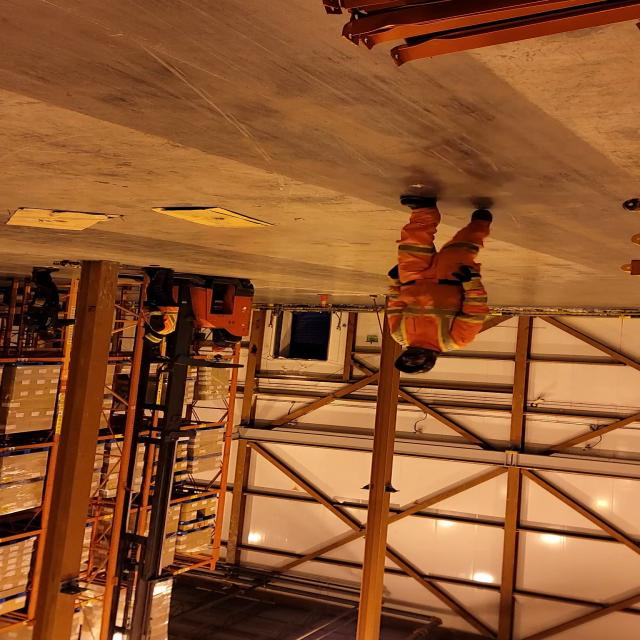forklift: (104, 264, 260, 442)
human: (382, 194, 500, 380), (22, 261, 84, 350), (128, 266, 188, 345), (200, 326, 247, 361)
objectofinterest: (73, 269, 145, 622), (5, 206, 129, 236), (146, 205, 282, 231)
